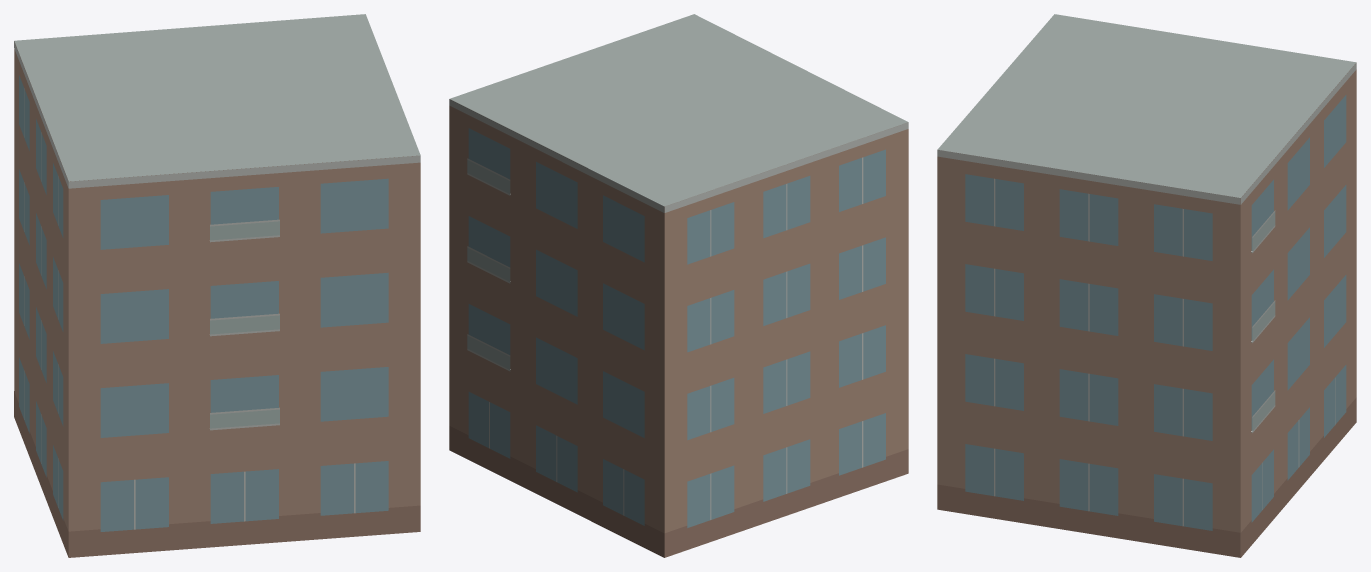
The model's file is survey-upis-32709032.glb.
3 views of the same model, side by side, from view 1: azimuth 30°, elevation 25°; view 2: azimuth 150°, elevation 25°; view 3: azimuth 270°, elevation 25° (orthographic). The views are drawn at different scales.
Parts seen in each view (by area): view 1: survey-upis-32709032.tmp; view 2: survey-upis-32709032.tmp; view 3: survey-upis-32709032.tmp.
Part boxes in pixels (left/top/right/bottom): survey-upis-32709032.tmp: left=14, top=14, right=420, bottom=557; survey-upis-32709032.tmp: left=449, top=14, right=908, bottom=557; survey-upis-32709032.tmp: left=937, top=14, right=1356, bottom=557.
Size of the model in its own units: 14.1 by 12.85 by 13.58.
